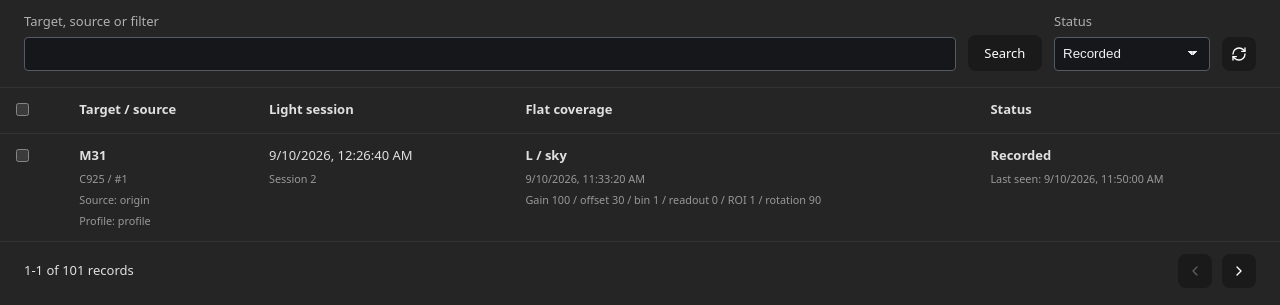
Scenario: scheduler flat coverage › returns to a valid page when a concurrent sync shrinks the result set
The image size is (1280, 305).
Expected: the text "1-1 of 101 records" is shown, [24,262,134,281]
Click the button named "Next coverage page": (1239, 271) [1222,254,1256,288]
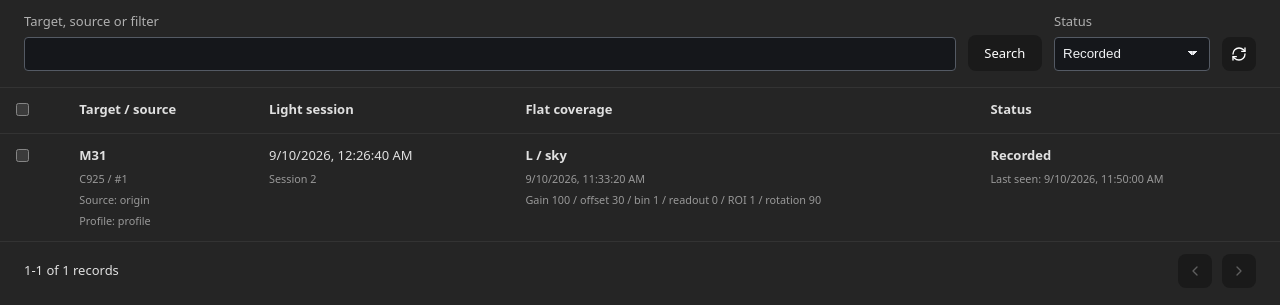
Expected: the button named "Previous coverage page" is disabled, [1178,254,1212,288]
Now the text "1-1 of 1 records" is shown, box [24,262,119,281]
